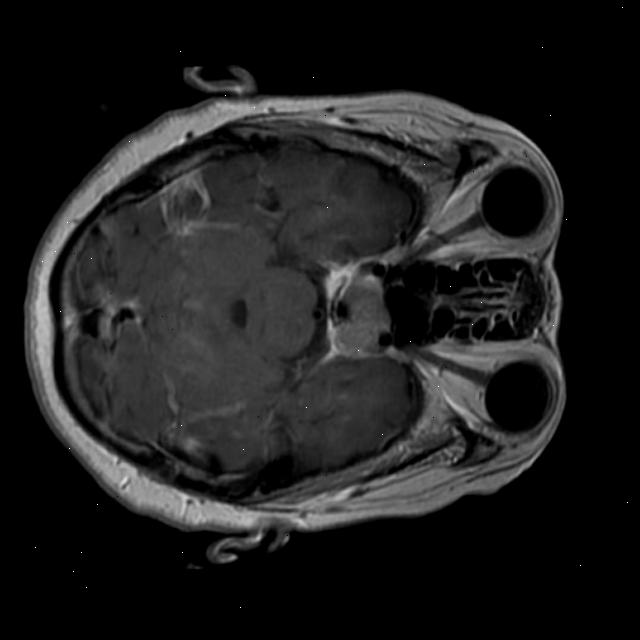Pituitary: (342, 274, 392, 338)
